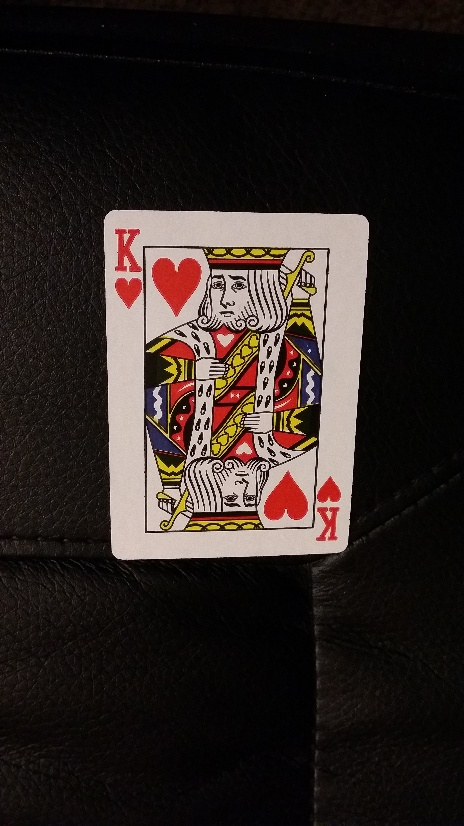Hk: (111, 224, 145, 308), (316, 473, 342, 543)
